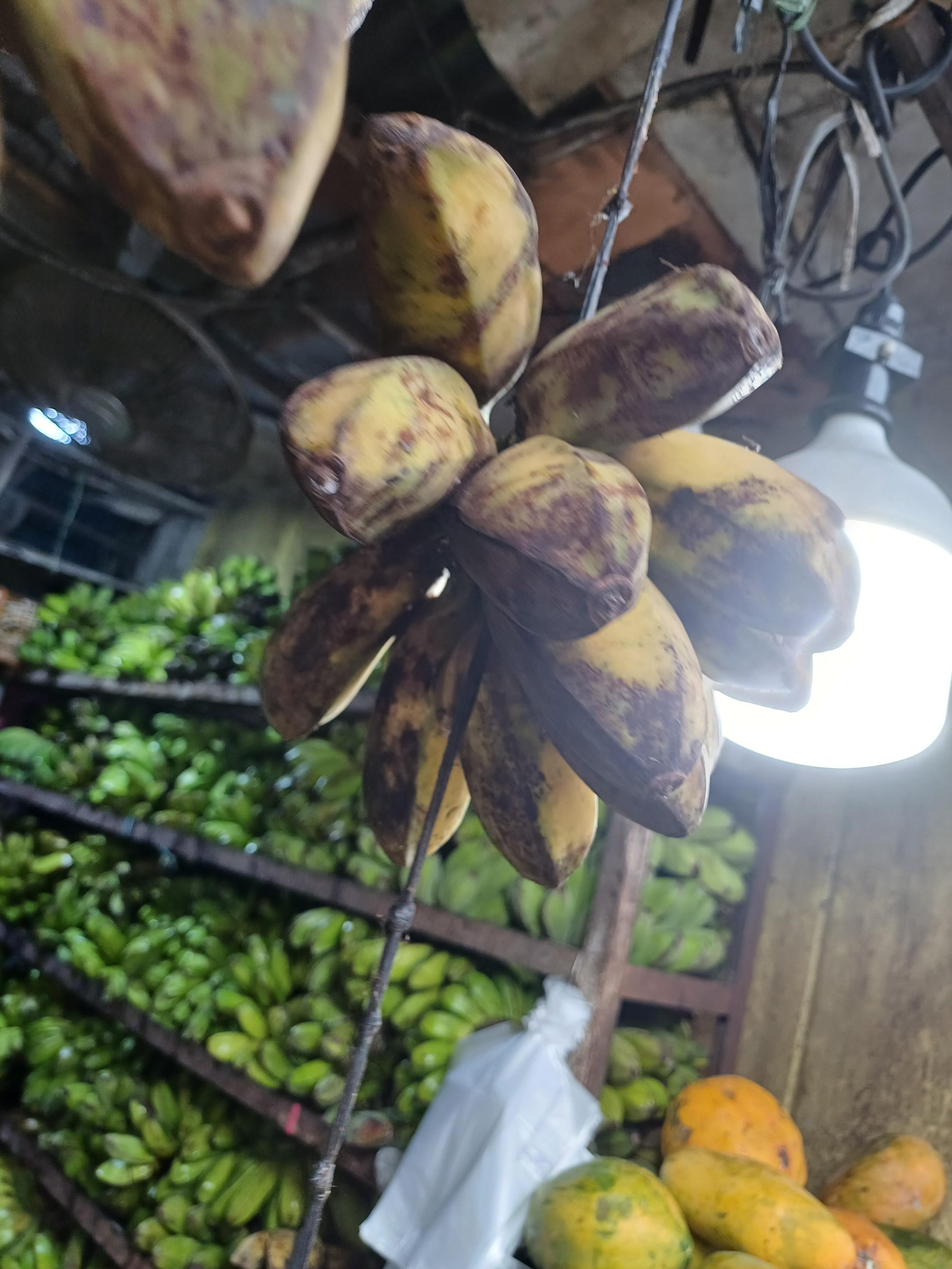ripe: (261, 111, 860, 882)
